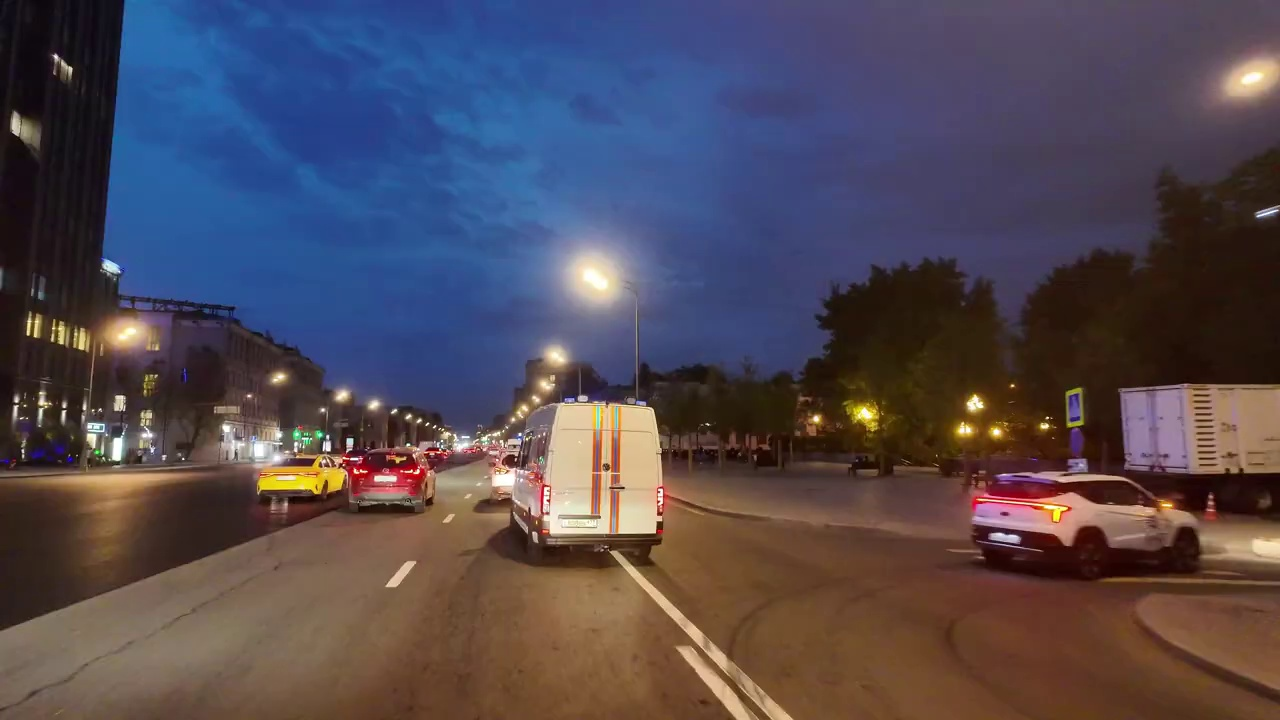acesa: (574, 258, 618, 301), (1230, 60, 1278, 99), (107, 319, 147, 349), (542, 343, 571, 371), (267, 368, 290, 390), (332, 386, 353, 408)
